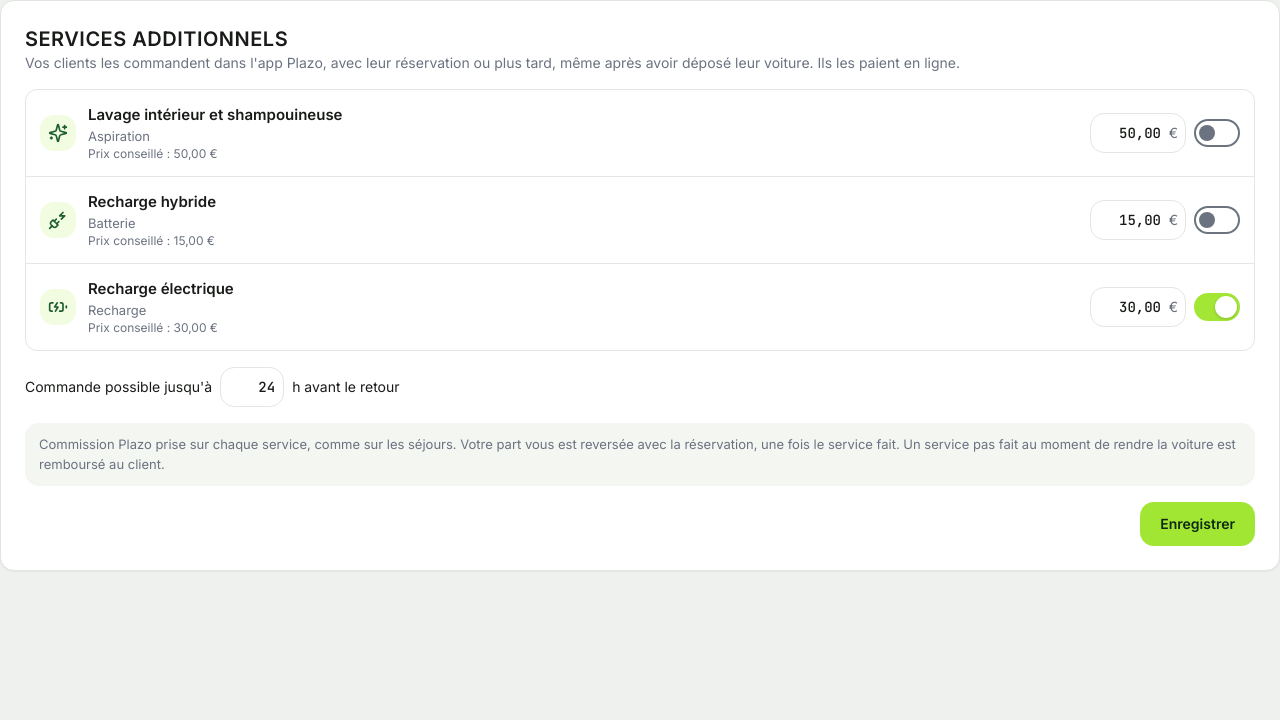
it: ExtrasSettingsCard (services additionnels) › refuse un prix hors limites sans appeler l'API
The width and height of the screenshot is (1280, 720).
Replace the text in the field named "Prix : Lavage intérieur et shampouineuse" with "0,50" at (1138, 133), box [1090,113,1186,153]
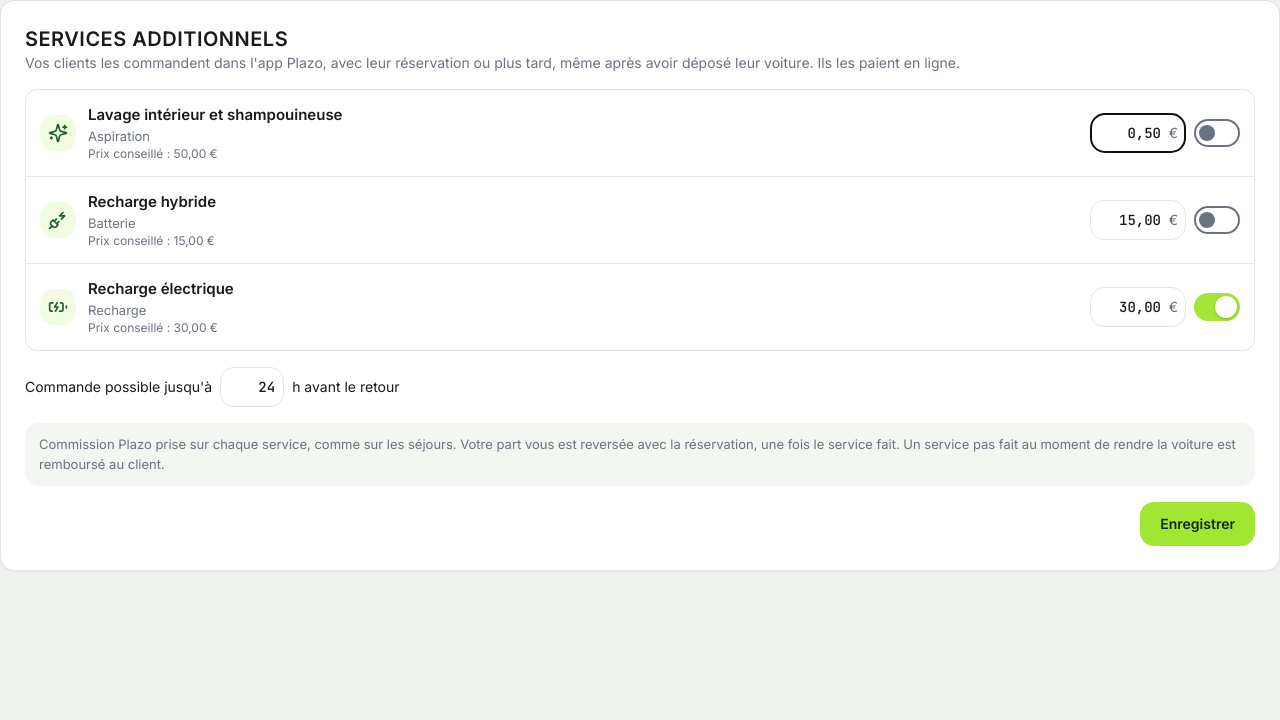
Click the button with test id "extras-save" at (1198, 524), box [1140,502,1255,546]
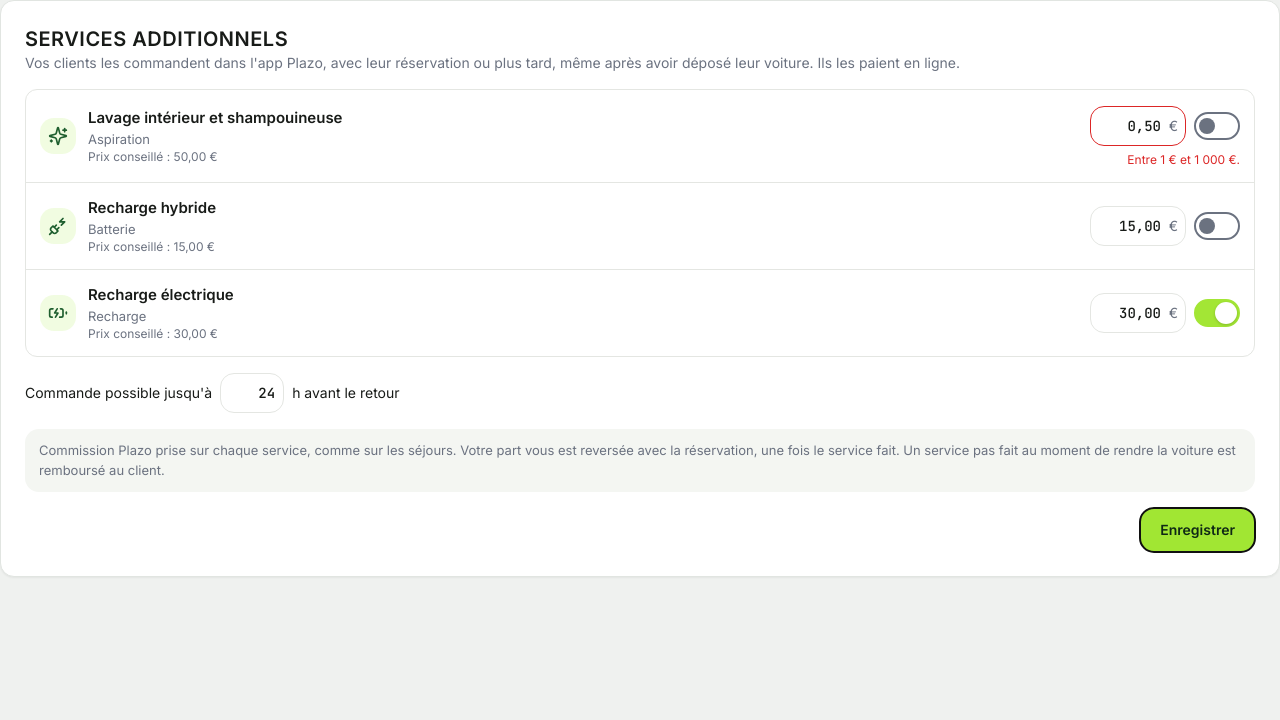
Result: the text "Entre 1 € et 1 000 €." is shown at [1127,152,1240,168]
